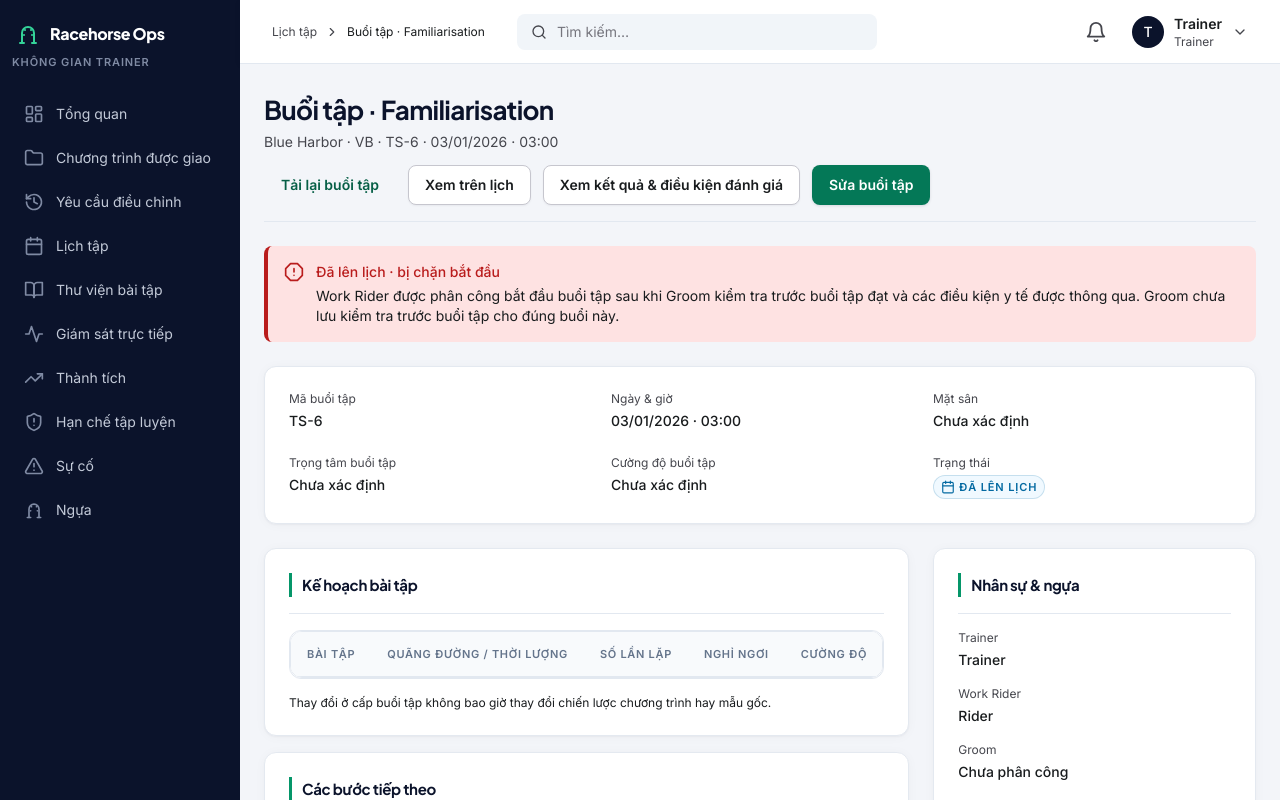
Test: reloads the same session from the API after Groom saves, without issuing a mutation
Click the button "Tải lại buổi tập" at (330, 186), box [264,166,396,206]
(page scrolled)
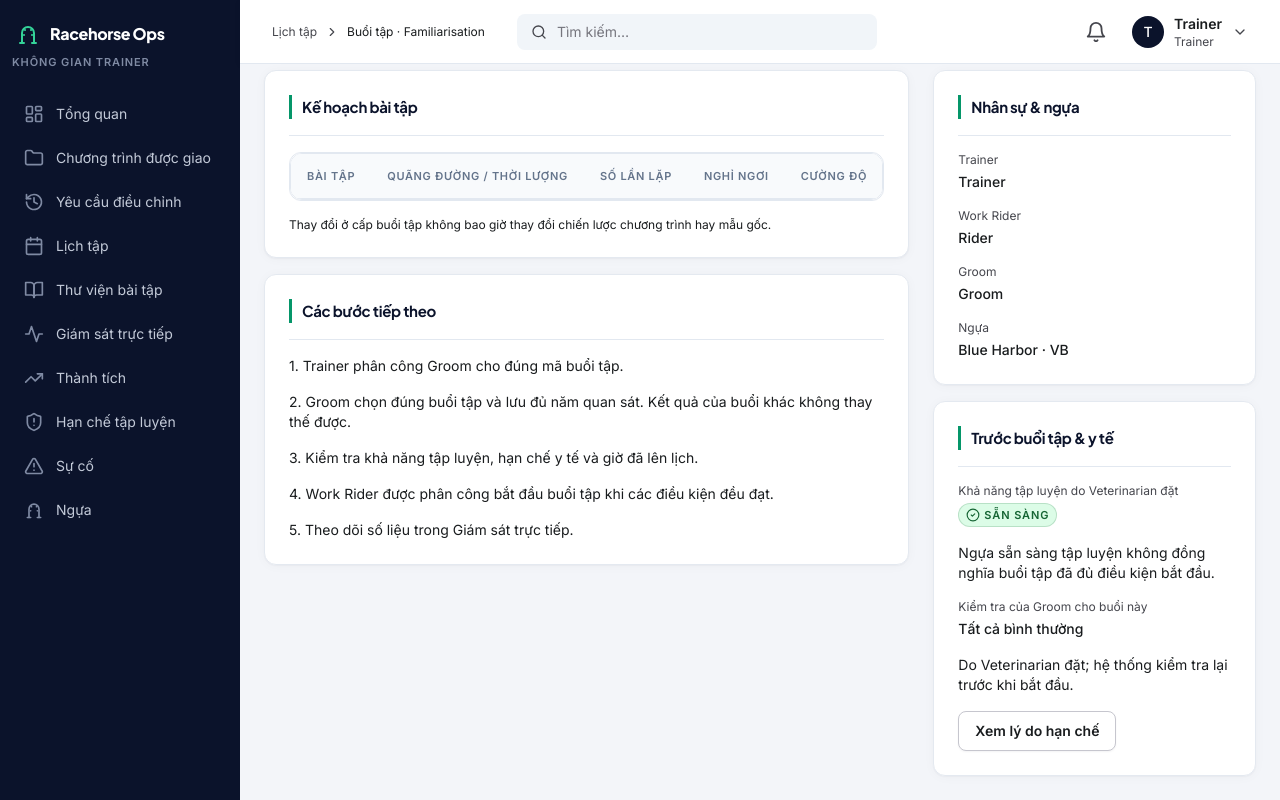
Now the text "Tất cả bình thường" is shown, box [958,620,1083,638]
